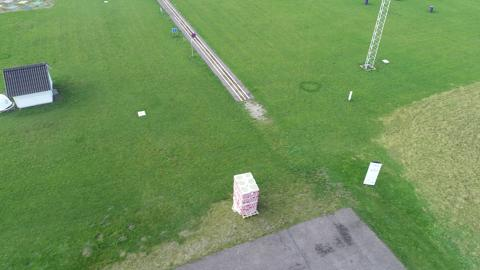RockwoolPallet: (233, 172, 261, 217)
